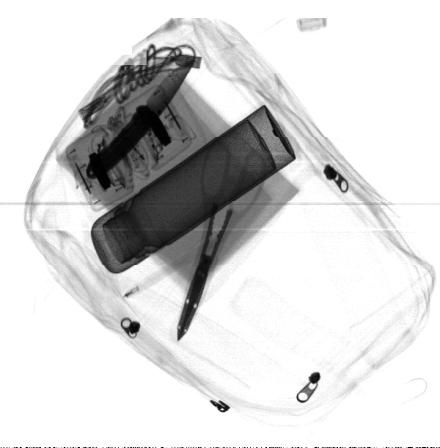Knife: (84, 59, 195, 180)
Scissors: (177, 139, 266, 340)
